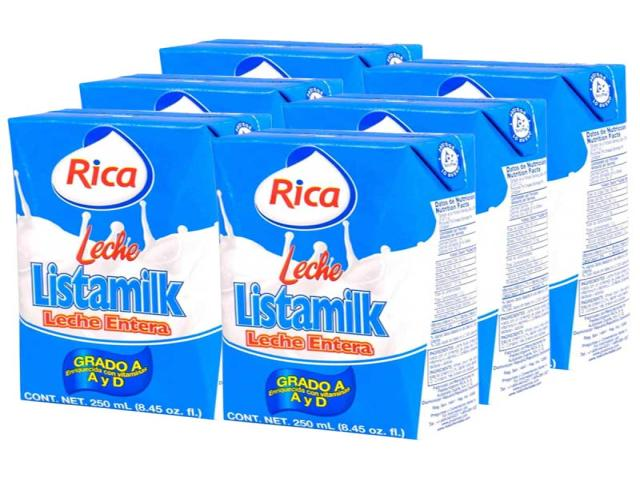drink_box: (213, 129, 483, 447), (4, 112, 234, 408)
